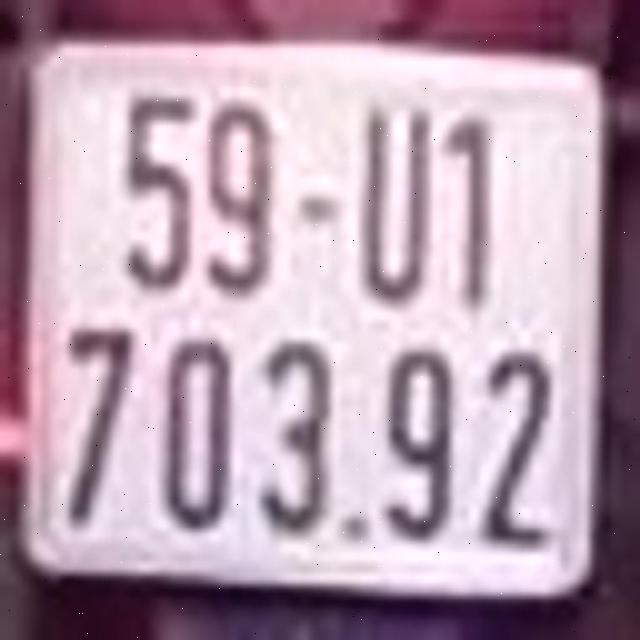0: (162, 334, 233, 529)
1: (442, 113, 497, 309)
2: (482, 347, 556, 550)
3: (258, 336, 331, 533)
5: (121, 89, 196, 290)
7: (60, 317, 137, 528)
9: (206, 97, 274, 296), (385, 342, 453, 540)
U: (361, 106, 432, 304)
